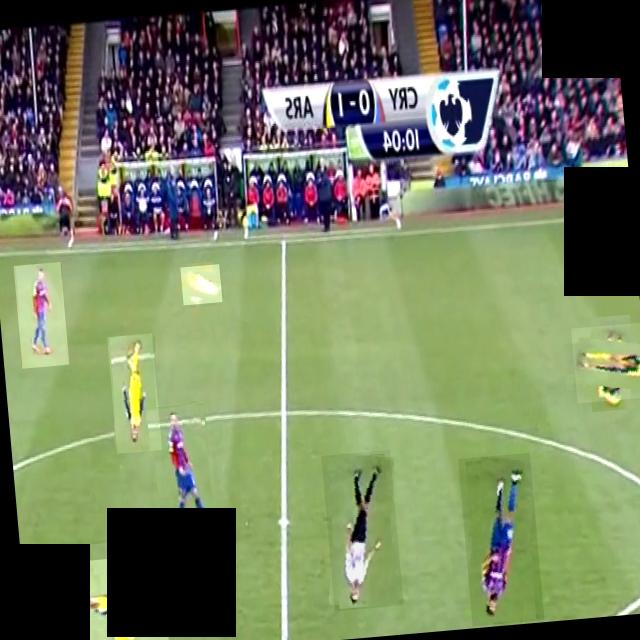ball: (179, 263, 221, 304)
referee: (320, 448, 402, 610)
soccer-player: (457, 451, 542, 625), (146, 400, 218, 548), (74, 553, 167, 640), (106, 332, 160, 452), (12, 260, 68, 368), (569, 321, 640, 402)
